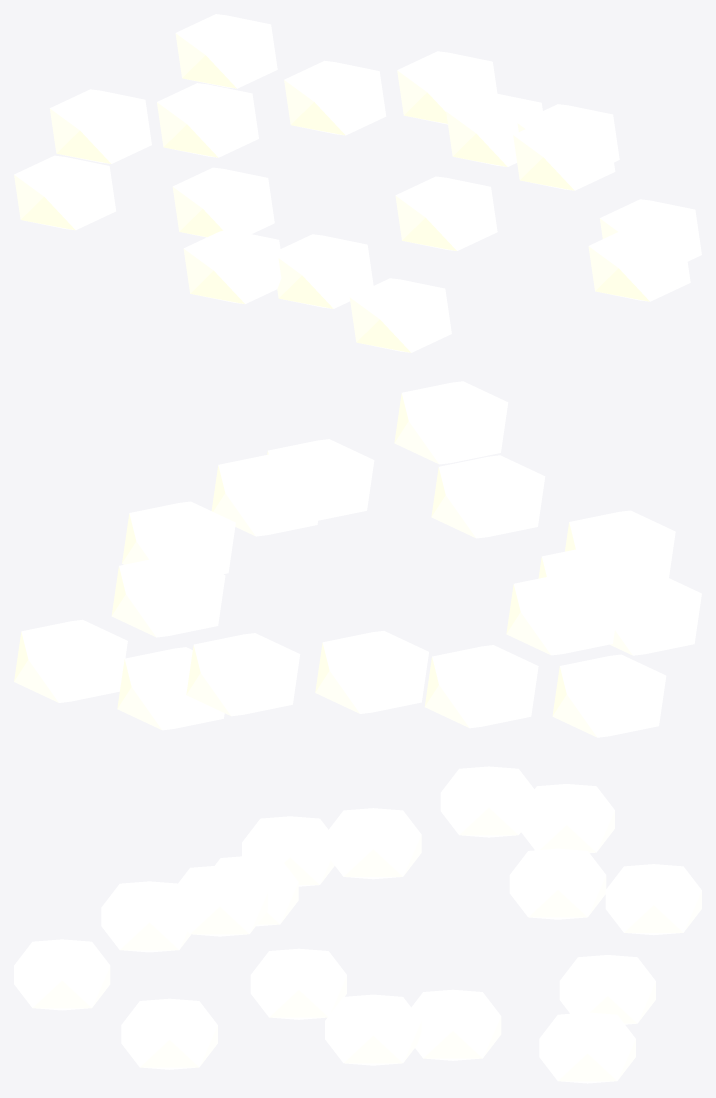
Rendered from item.oil.glb.
3 renders of one model, top to bottom at view 1: azimuth 30°, elevation 25°; view 2: azimuth 150°, elevation 25°; view 3: azimuth 270°, elevation 25°, orthographic. The views are drawn at different scales.
Visible parts, largest first — view 1: item.oil.Icosphere.016; view 2: item.oil.Icosphere.016; view 3: item.oil.Icosphere.016.
Part boxes in pixels (box(x1,y1,x2,y2)): item.oil.Icosphere.016: box(14, 14, 701, 352); item.oil.Icosphere.016: box(14, 381, 701, 737); item.oil.Icosphere.016: box(14, 766, 701, 1083).
Size of the model in its own units: 1.39 by 0.3262 by 1.58.
